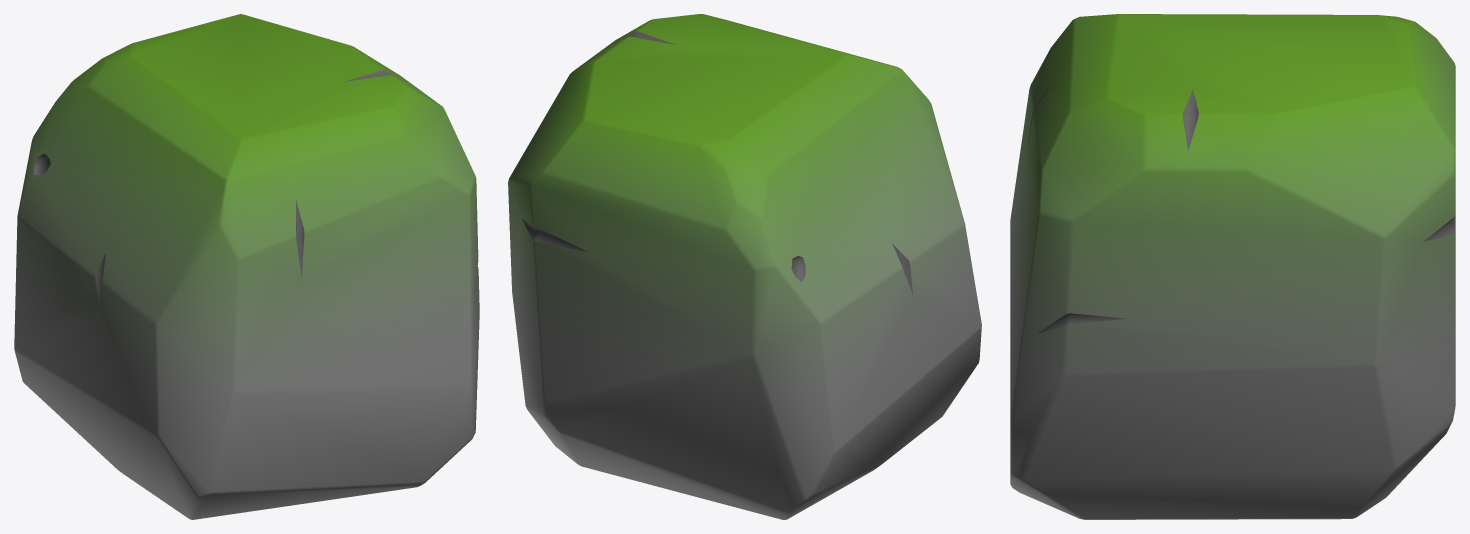
Rendered from Rock04_1.fbx.
3 renders of one model, left to right at view 1: azimuth 30°, elevation 25°; view 2: azimuth 150°, elevation 25°; view 3: azimuth 270°, elevation 25°, orthographic. The views are drawn at different scales.
Parts seen in each view (by area): view 1: LOD0; view 2: LOD0; view 3: LOD0.
Boxes of the visible parts, x1,y1,x2,y2 form: LOD0: [14, 14, 479, 519]; LOD0: [508, 14, 981, 519]; LOD0: [1010, 14, 1455, 519].
Size of what is drawn, in the model's own units: 429 by 445 by 445.
